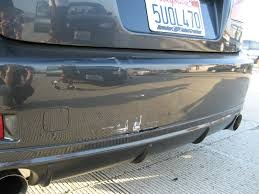Scratch: (99, 115, 149, 134), (78, 56, 125, 71)
